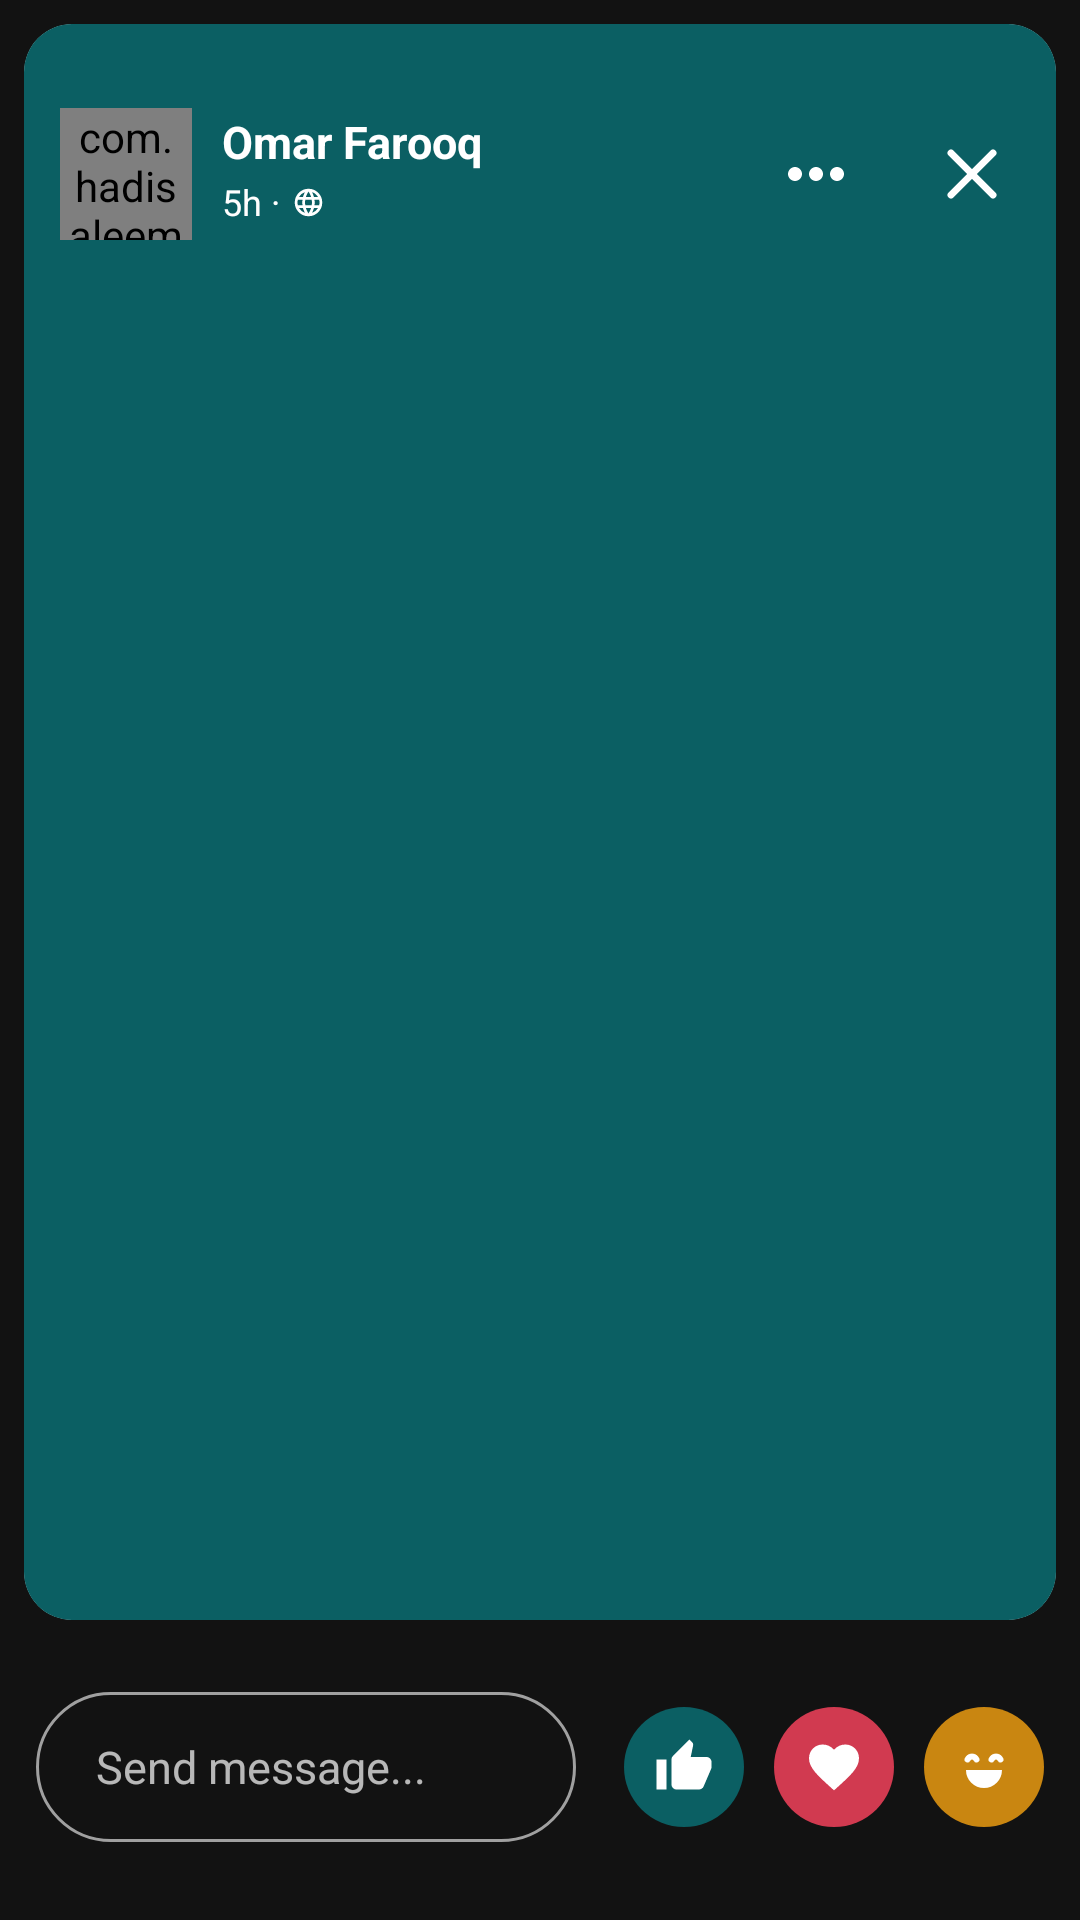

Screen size 1080×1920. Icon name, then its box in pixels as box=[x1, y1, x2, y2]:
close icon: box=[947, 149, 997, 199]
haha reaction: box=[924, 1707, 1044, 1827]
like reaction: box=[624, 1707, 744, 1827]
love reaction: box=[774, 1707, 894, 1827]
more button: box=[788, 167, 844, 181]
web icon: box=[294, 188, 323, 217]
